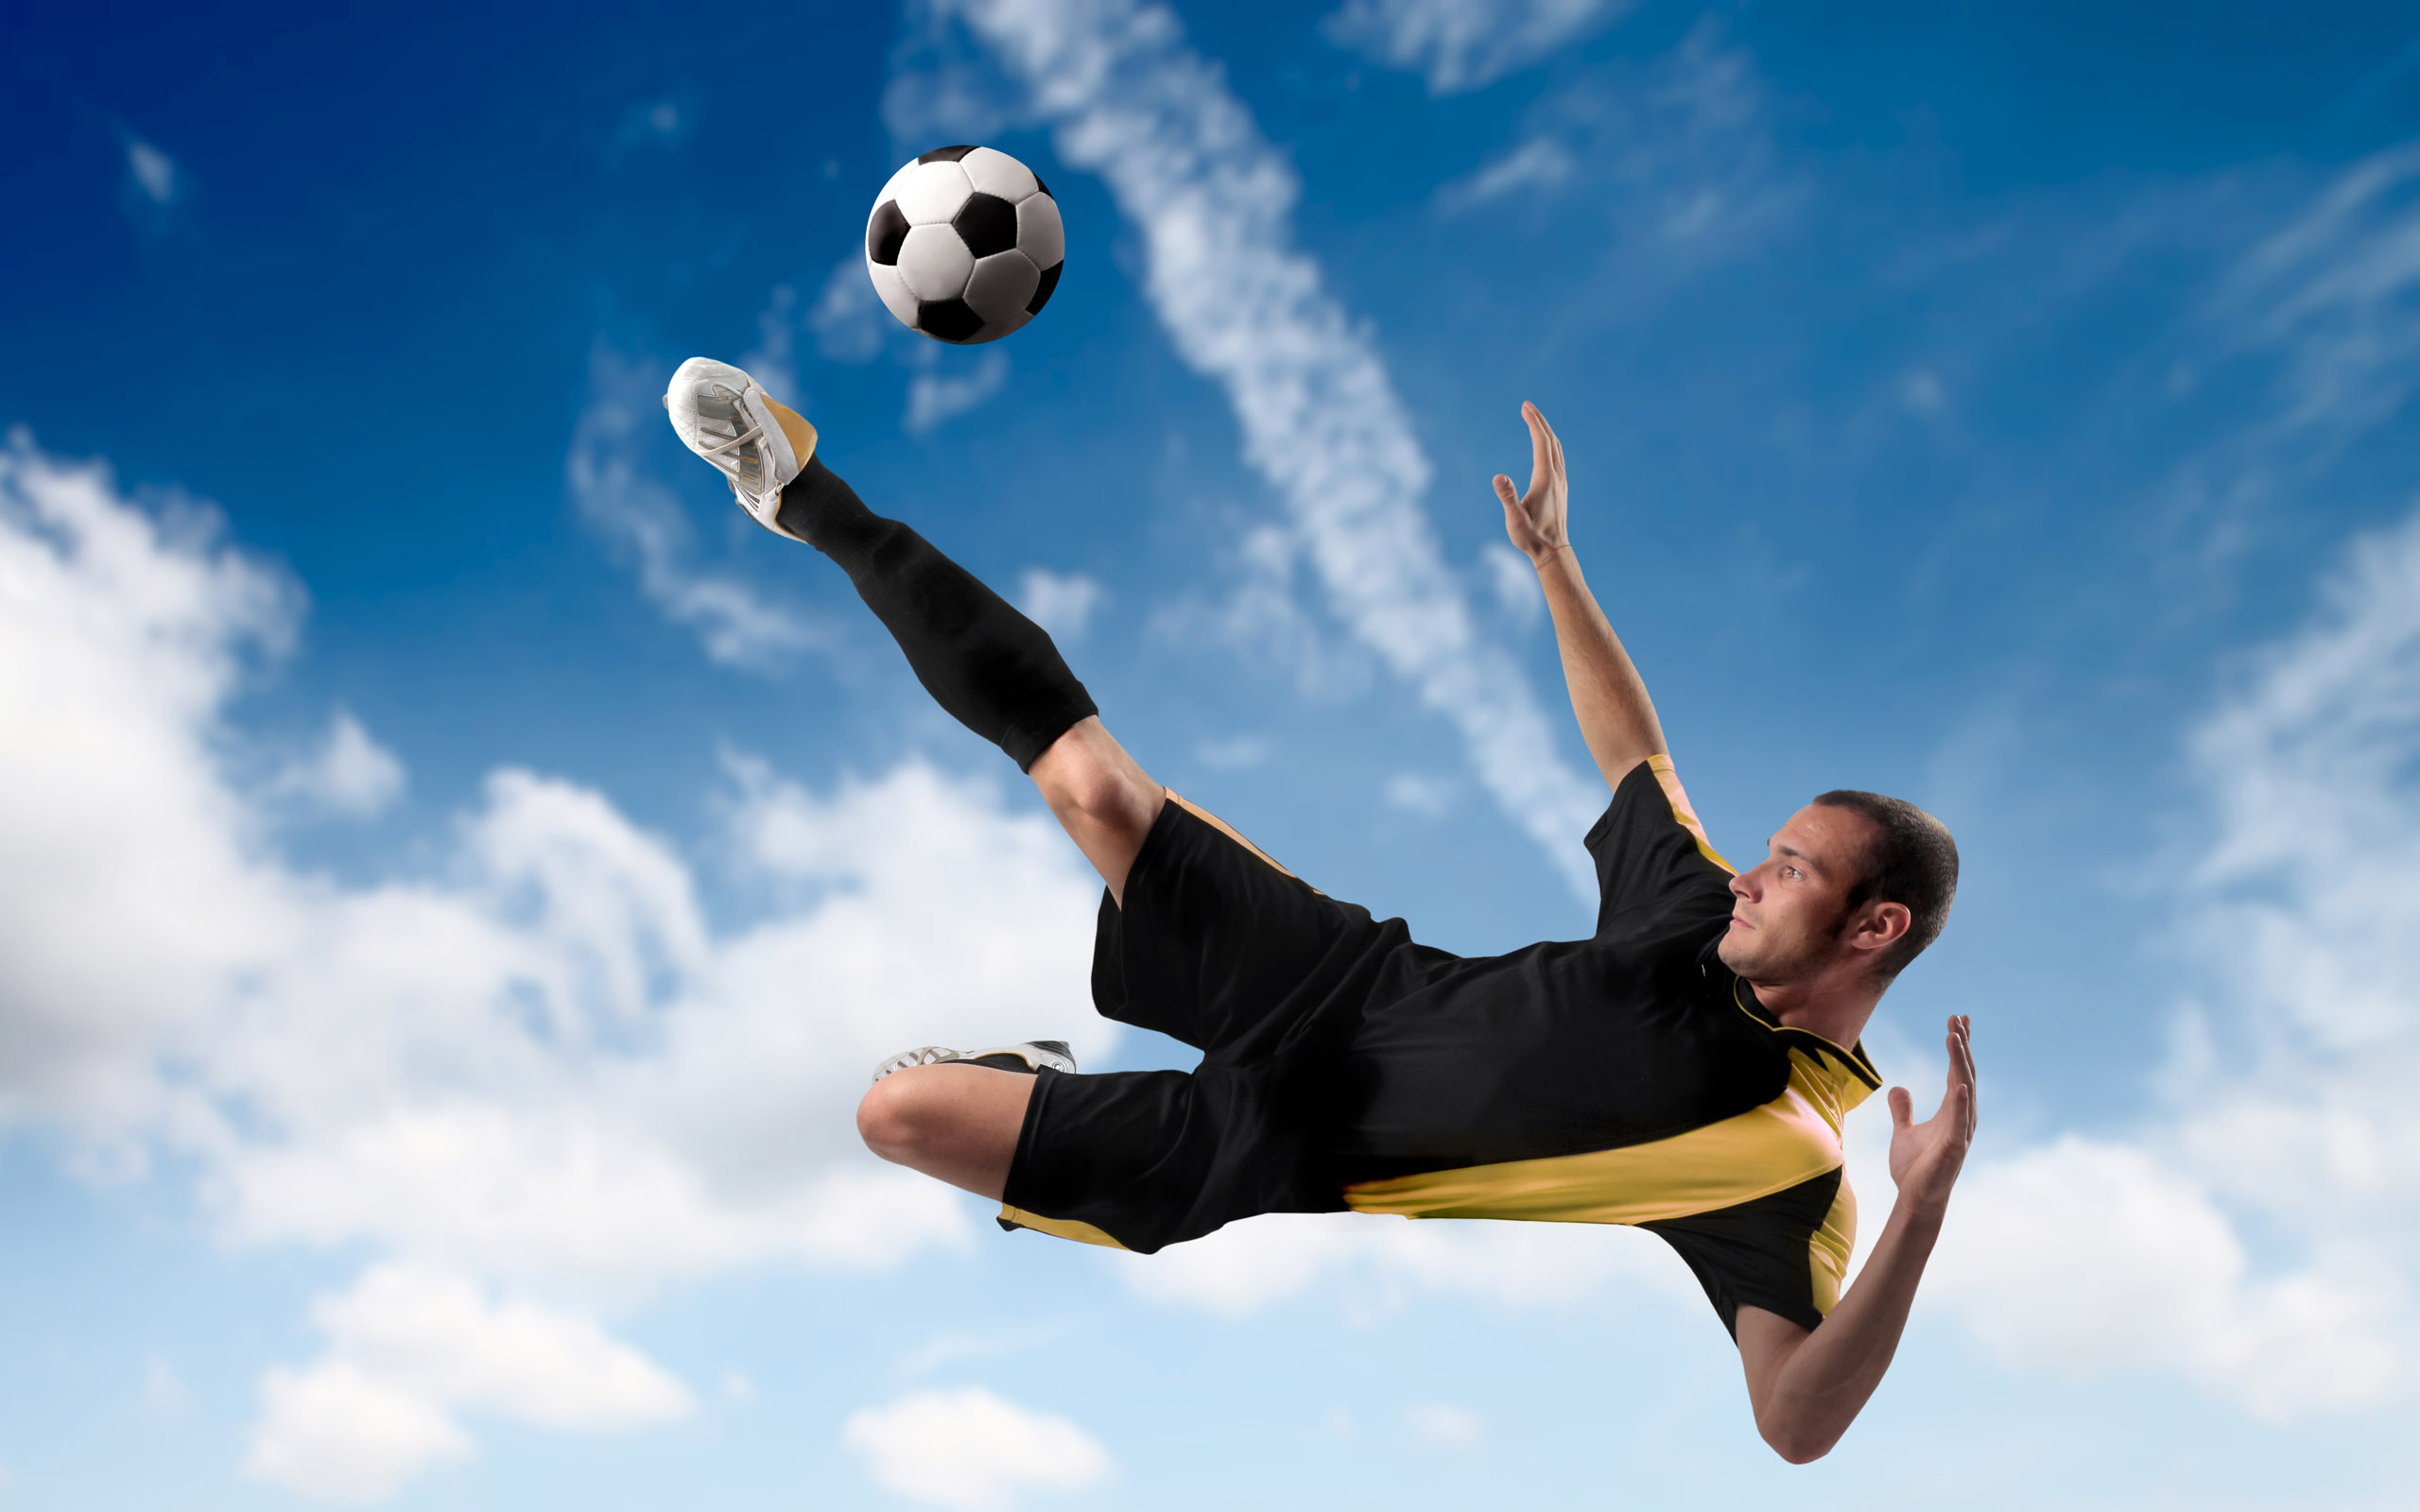ball: (864, 141, 1068, 348)
